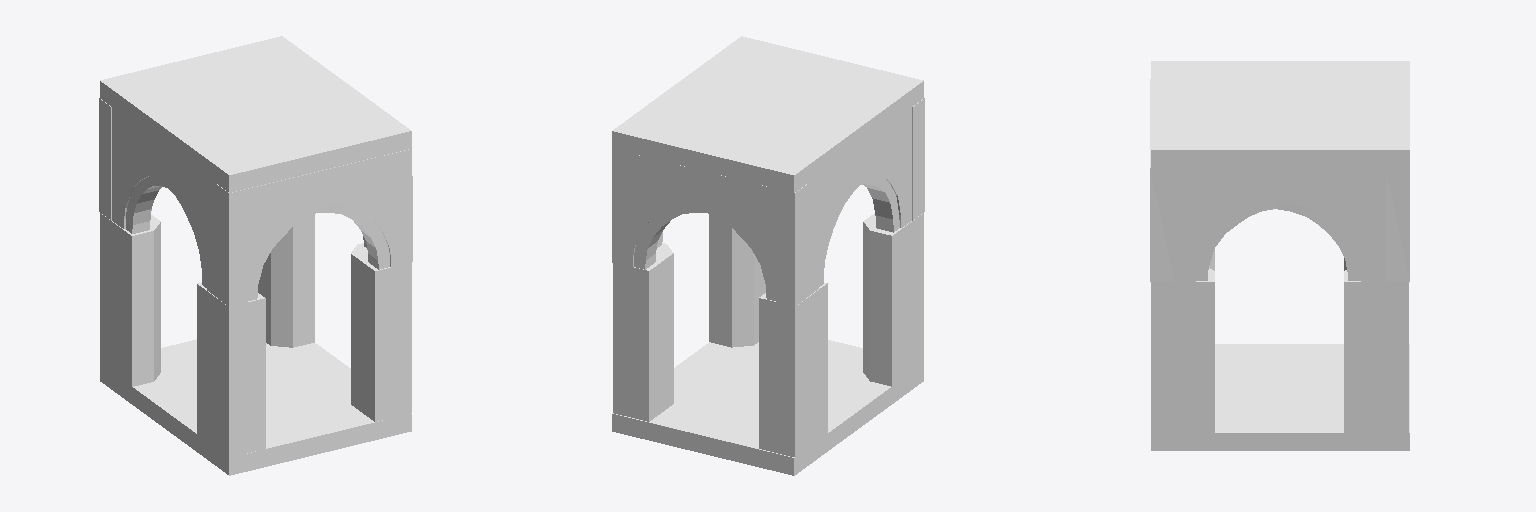
File: junction.obj
3 renders of one model, left to right at view 1: azimuth 30°, elevation 25°; view 2: azimuth 150°, elevation 25°; view 3: azimuth 270°, elevation 25°, orthographic.
Parts seen in each view (by area): view 1: Group4_Form8, Group4_Group3_Form9, Group4_Group2_Form6; view 2: Group4_Form8, Group4_Group3_Form9, Group4_Group2_Form6; view 3: Group4_Form8, Group4_Group2_Form6, Group4_Group3_Form9.
Part boxes in pixels (bbox=[...]): Group4_Form8: bbox=[100, 36, 411, 475]; Group4_Group3_Form9: bbox=[100, 213, 411, 457]; Group4_Group2_Form6: bbox=[99, 98, 412, 306]; Group4_Form8: bbox=[612, 36, 923, 475]; Group4_Group3_Form9: bbox=[613, 213, 923, 457]; Group4_Group2_Form6: bbox=[612, 98, 924, 306]; Group4_Form8: bbox=[1151, 61, 1409, 450]; Group4_Group2_Form6: bbox=[1150, 79, 1409, 281]; Group4_Group3_Form9: bbox=[1151, 249, 1408, 432].
Size of the model in its own units: 184 by 287 by 225.